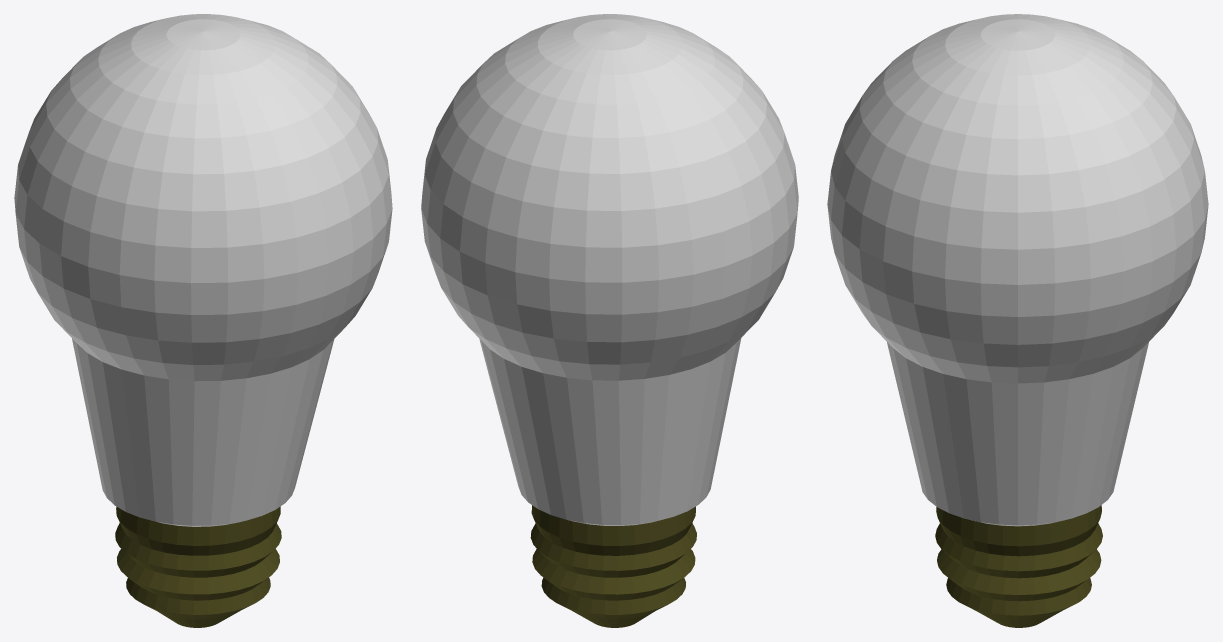
Rendered from Lightbulb.glb.
3 renders of one model, left to right at view 1: azimuth 30°, elevation 25°; view 2: azimuth 150°, elevation 25°; view 3: azimuth 270°, elevation 25°, orthographic.
Visible parts, largest first — view 1: Sphere, Cylinder.001; view 2: Sphere, Cylinder.001; view 3: Sphere, Cylinder.001.
Boxes of the visible parts, x1,y1,x2,y2 form: Sphere: (14,14,392,526); Cylinder.001: (115,506,281,627); Sphere: (421,14,798,525); Cylinder.001: (530,505,696,627); Sphere: (827,14,1208,526); Cylinder.001: (935,505,1102,627).
Bounding box in the file's own units: 0.6818 × 1.16 × 0.6818.
